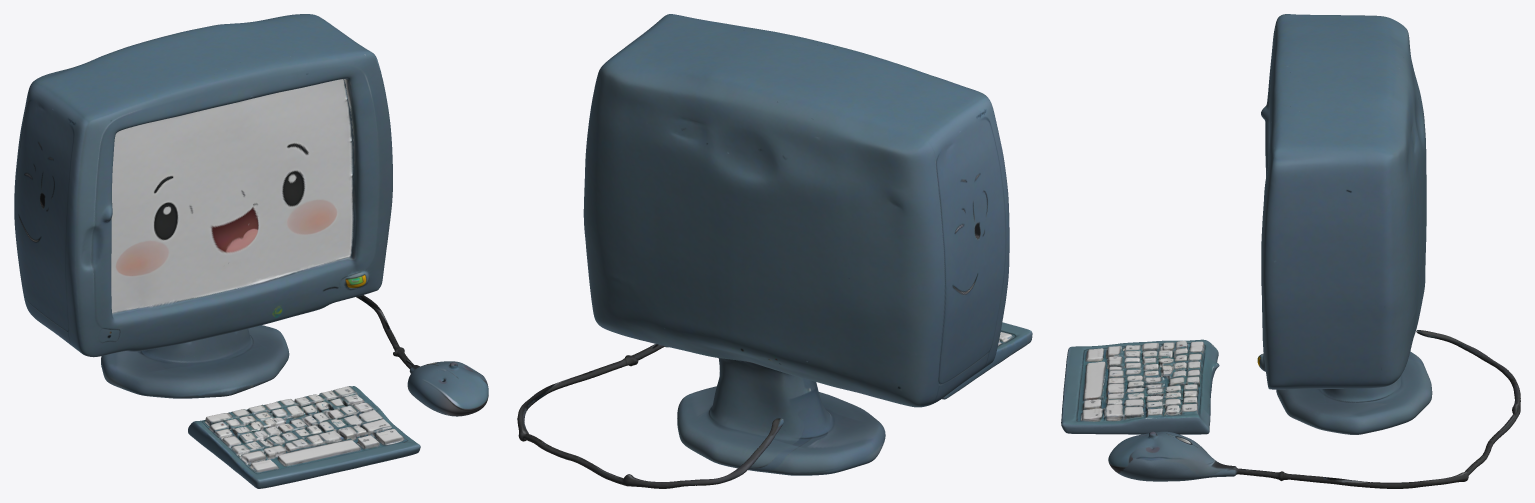
File: computer.glb
The picture shows the model from 3 angles, left to right: view 1: azimuth 30°, elevation 25°; view 2: azimuth 150°, elevation 25°; view 3: azimuth 270°, elevation 25°; orthographic projection. The views are drawn at different scales.
Bounding box in the file's own units: 59190 × 51145 × 65313.
Materials: 1 (1 with a texture image).
